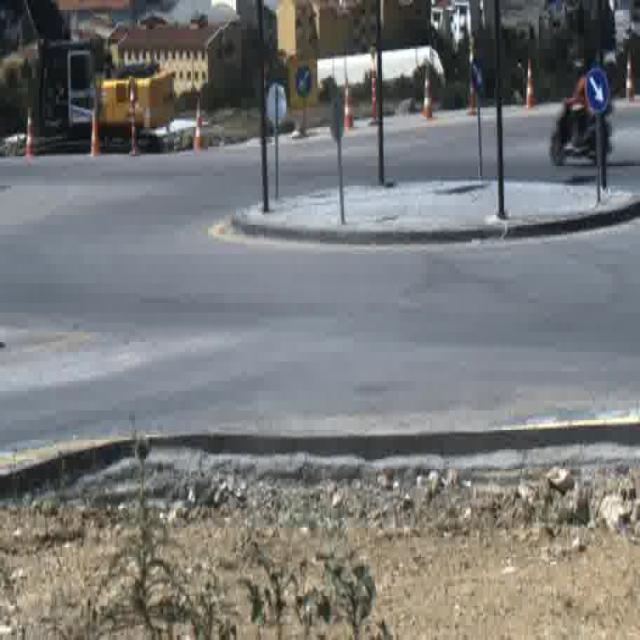Motorcycle: (549, 65, 611, 162)
